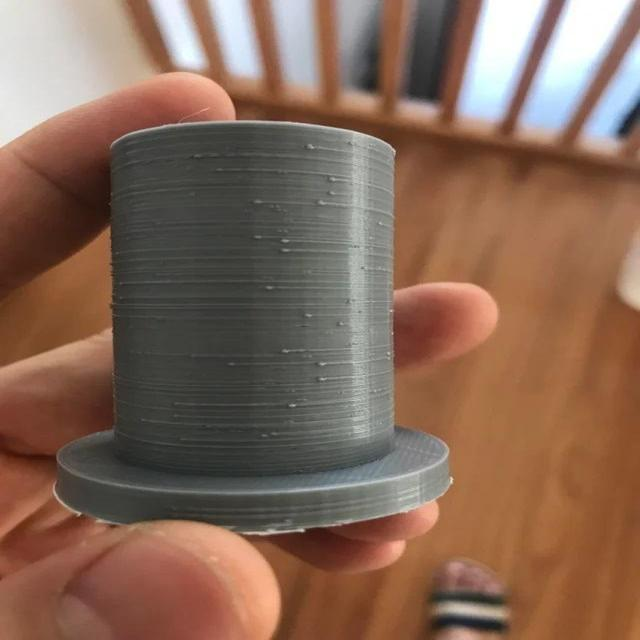spaghetti: (156, 146, 288, 180), (281, 332, 342, 390), (247, 194, 296, 266), (312, 165, 343, 216)
